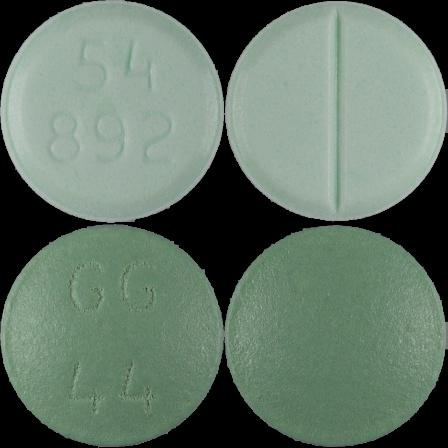49999-059: (0, 0, 224, 224)
